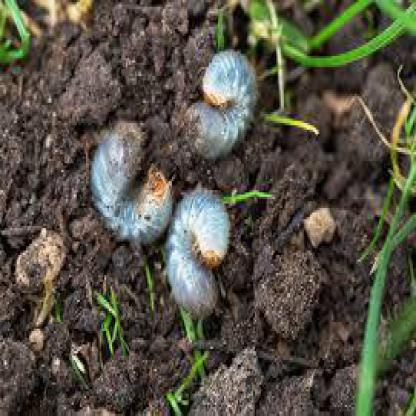root grubs: (92, 116, 173, 250), (161, 193, 230, 317), (185, 52, 260, 163)
